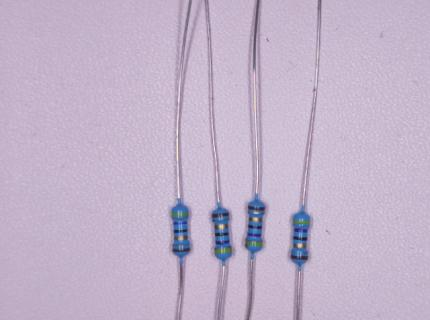Black band: (293, 236, 307, 241), (215, 232, 228, 237), (174, 229, 188, 233), (249, 225, 262, 229)
Brown band: (248, 205, 266, 211), (291, 255, 308, 260), (172, 248, 190, 252), (212, 213, 229, 217)
Gold band: (293, 243, 307, 249), (215, 224, 228, 230), (249, 217, 263, 222), (174, 235, 187, 240)
Violet band: (247, 232, 261, 237), (216, 240, 229, 245), (295, 228, 307, 233), (173, 221, 187, 225)
Yellow band: (245, 241, 263, 247), (293, 219, 310, 224), (215, 248, 231, 253), (171, 213, 188, 217)
